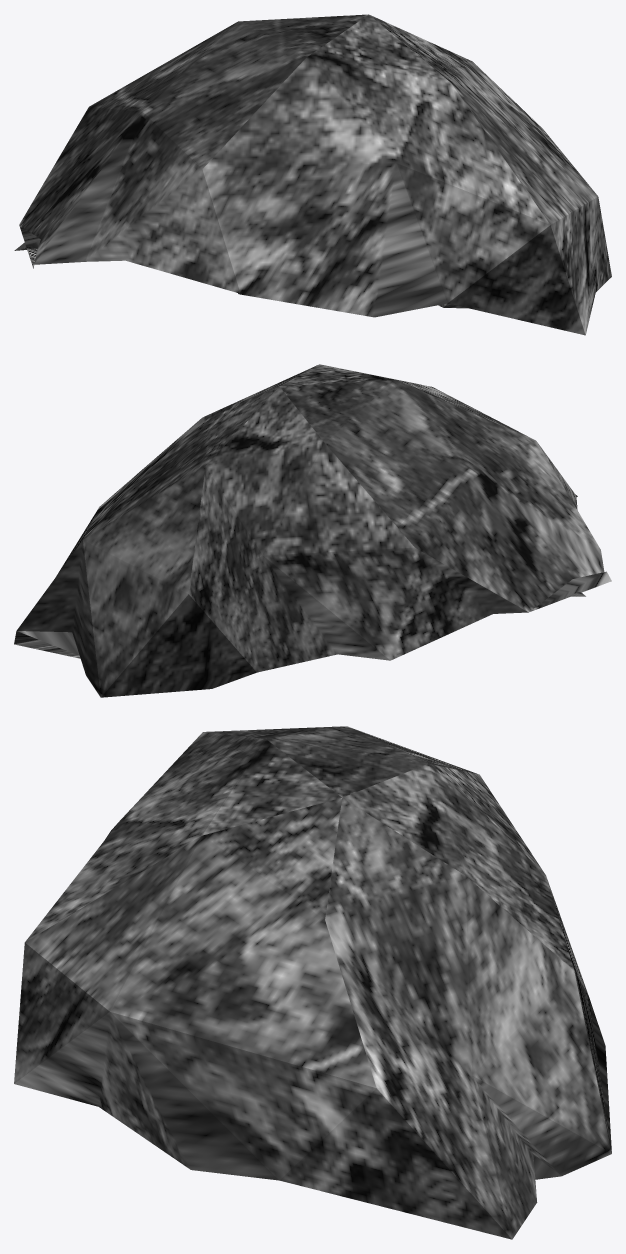
File: Rock.glb
3 views of the same model, one above another, from view 1: azimuth 30°, elevation 25°; view 2: azimuth 150°, elevation 25°; view 3: azimuth 270°, elevation 25° (orthographic). The views are drawn at different scales.
Visible parts, largest first — view 1: Icosphere.001; view 2: Icosphere.001; view 3: Icosphere.001.
Boxes of the visible parts, box(x1,y1,x2,y2) form: Icosphere.001: box(14, 14, 611, 335); Icosphere.001: box(14, 364, 611, 697); Icosphere.001: box(14, 726, 611, 1239).
Bounding box in the file's own units: 16.85 × 8.24 × 13.63.
Materials: 1 (1 with a texture image).
